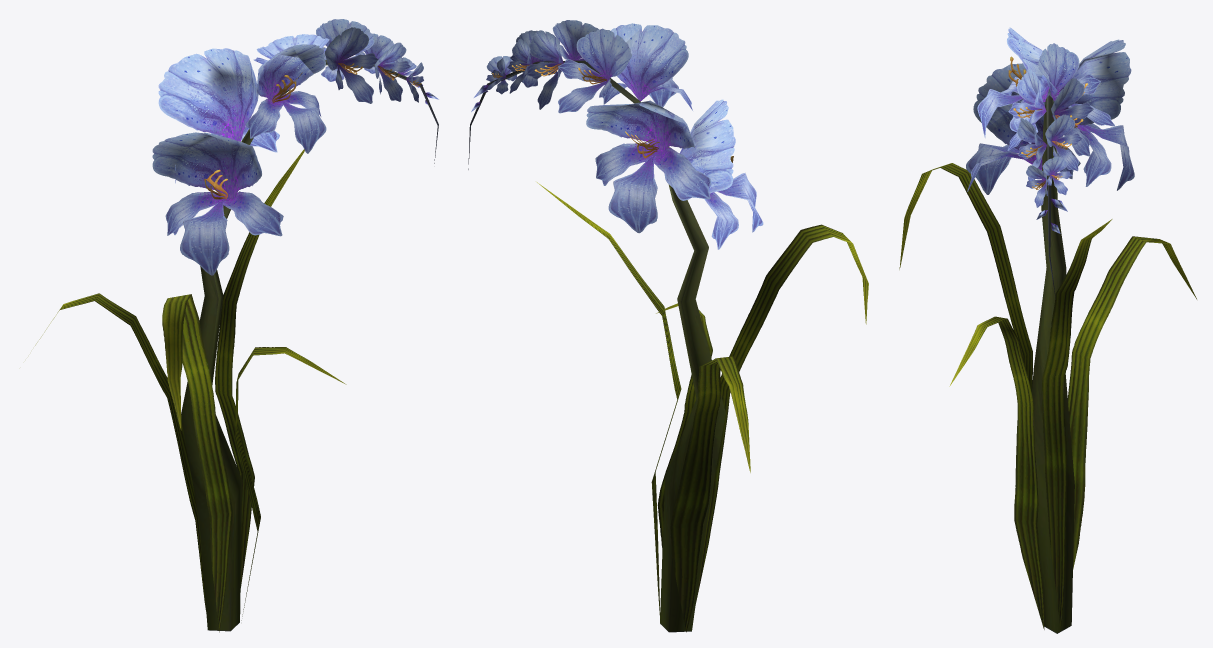
Rendered from bush_taladororchid.obj.
The picture shows the model from 3 angles, left to right: view 1: azimuth 30°, elevation 25°; view 2: azimuth 150°, elevation 25°; view 3: azimuth 270°, elevation 25°; orthographic projection. The views are drawn at different scales.
Visible parts, largest first — view 1: BUSH_TALADORORCHID0; view 2: BUSH_TALADORORCHID0; view 3: BUSH_TALADORORCHID0.
Part boxes in pixels (bbox=[...]): BUSH_TALADORORCHID0: bbox=[35, 19, 438, 632]; BUSH_TALADORORCHID0: bbox=[468, 20, 868, 632]; BUSH_TALADORORCHID0: bbox=[899, 27, 1196, 633].
Size of the model in its own units: 2.36 by 3.72 by 1.64.
1 material, 1 textured.
